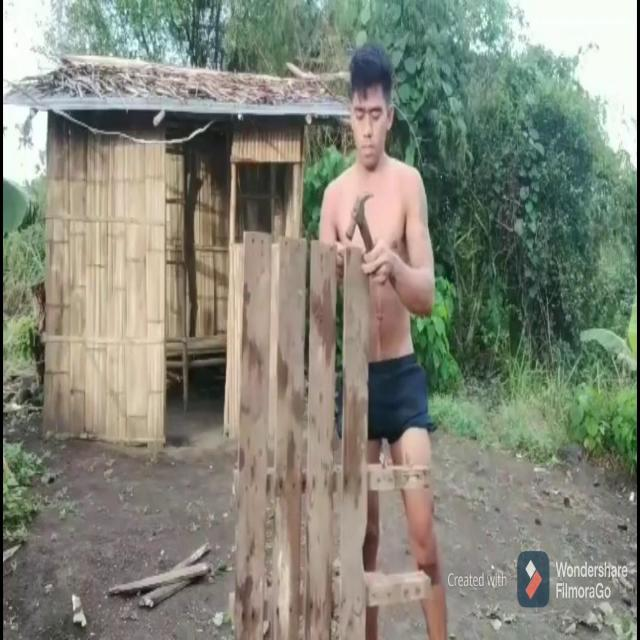hammer: (346, 192, 374, 253)
